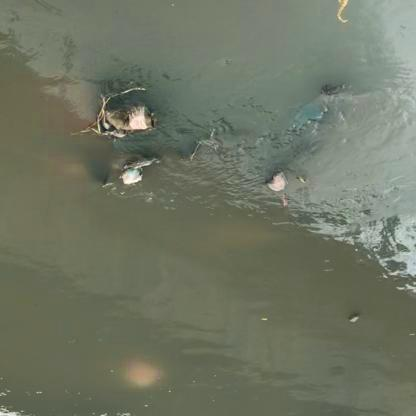Trash: (118, 168, 144, 186)
